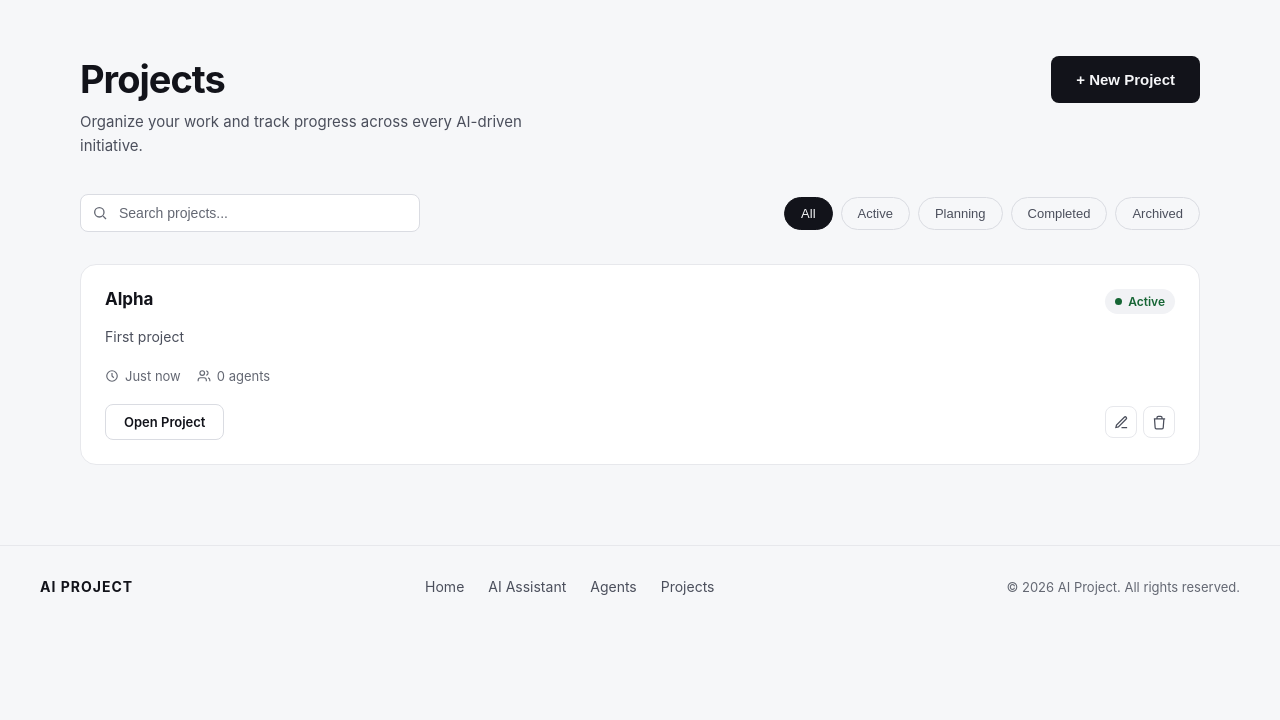
Projects — mutations › does not remove the item from the cached list when a delete mutation fails
The width and height of the screenshot is (1280, 720).
Expected: the heading "Alpha" is shown, top-left (105, 289), bottom-right (154, 309)
Click the button named "Delete Alpha" at (1159, 422), box top-left (1143, 406), bottom-right (1175, 438)
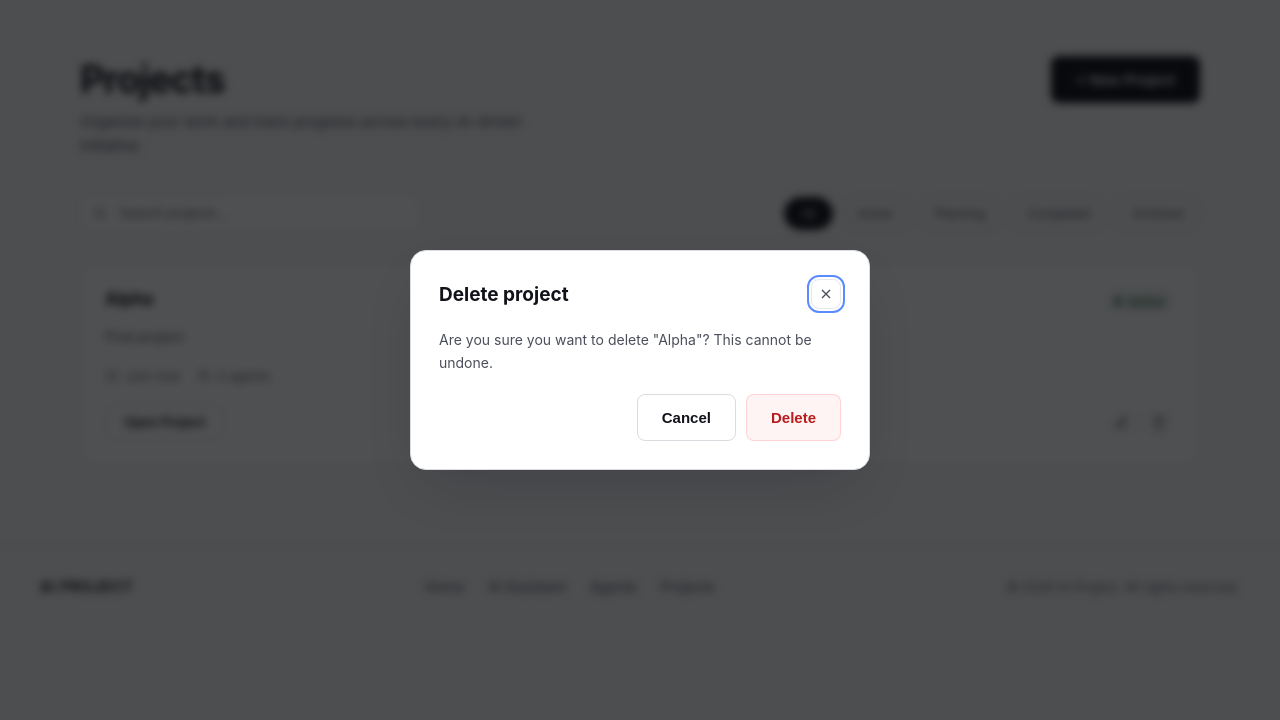
Click the button "Delete" at (794, 417), box top-left (746, 394), bottom-right (841, 441)
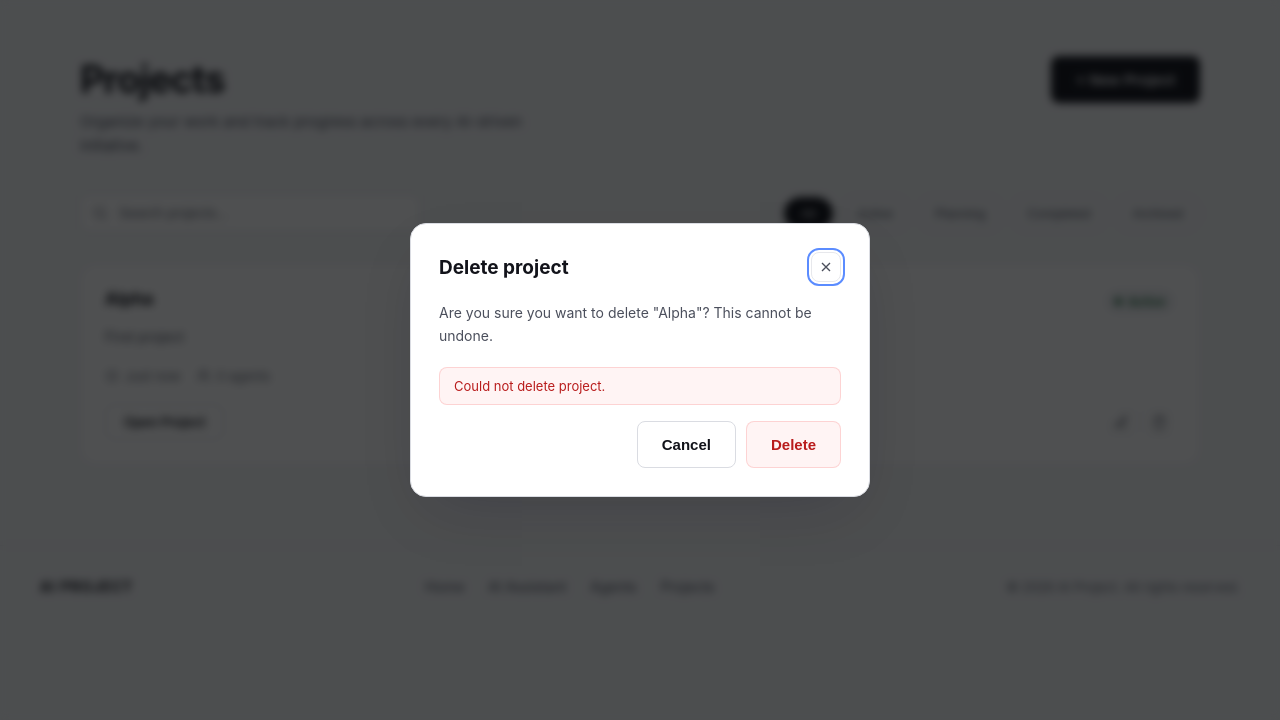
Expected: the heading "Alpha" is shown, top-left (105, 289), bottom-right (154, 309)
Expected: the heading "Delete project" is shown, top-left (439, 256), bottom-right (569, 279)
Expected: the text "Could not delete project." is shown, top-left (439, 367), bottom-right (841, 405)
